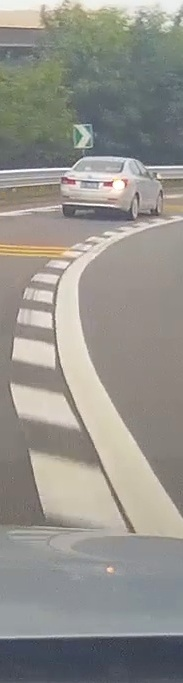L_light: (61, 177, 76, 185)
R_light: (103, 179, 128, 187)
T_light: (98, 161, 106, 163)
day-right: (60, 156, 131, 220)
